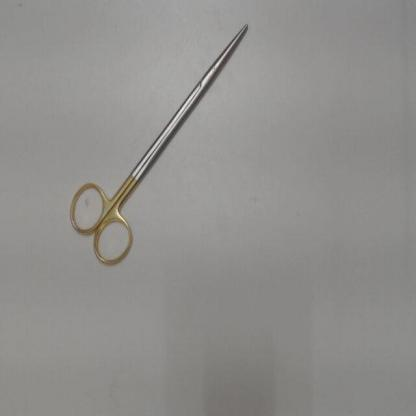7 Metzenbaum Scissors: (64, 19, 252, 271)
